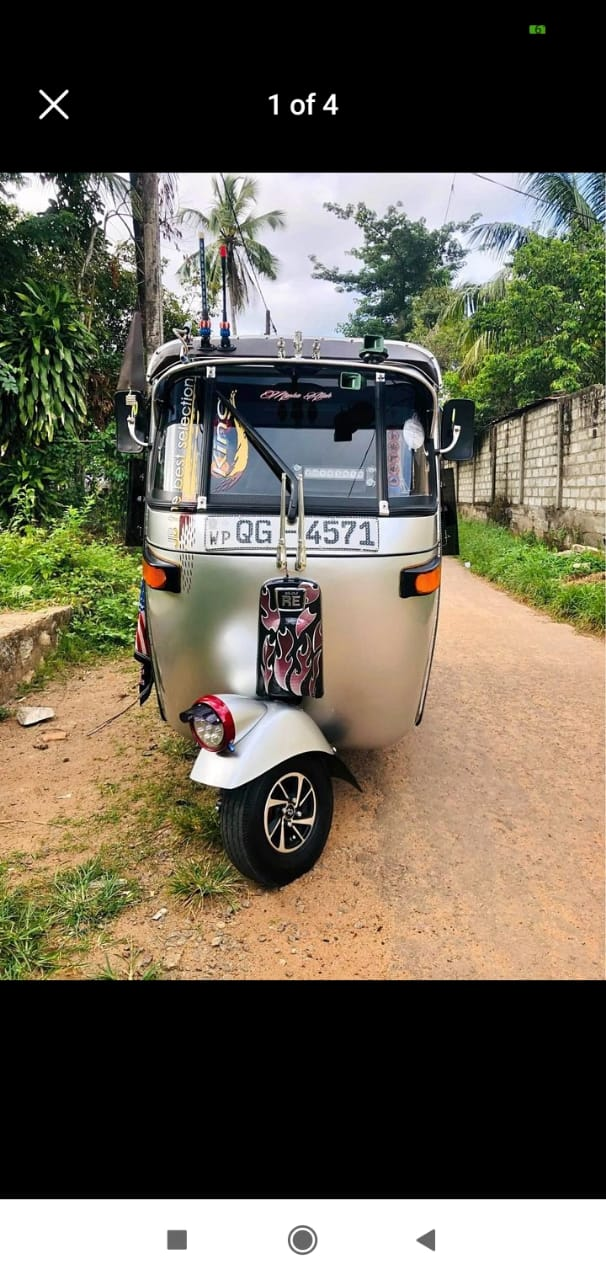number_plate: (204, 516, 379, 556)
